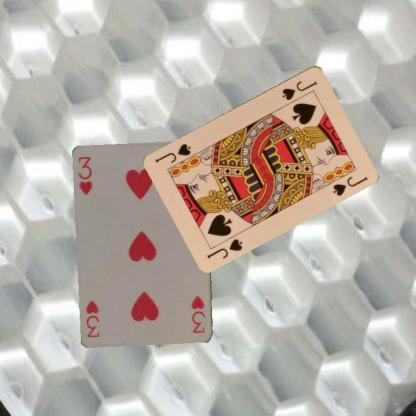3h: (189, 292, 207, 334), (76, 154, 94, 196)
Js: (204, 235, 244, 260), (279, 78, 319, 101)
